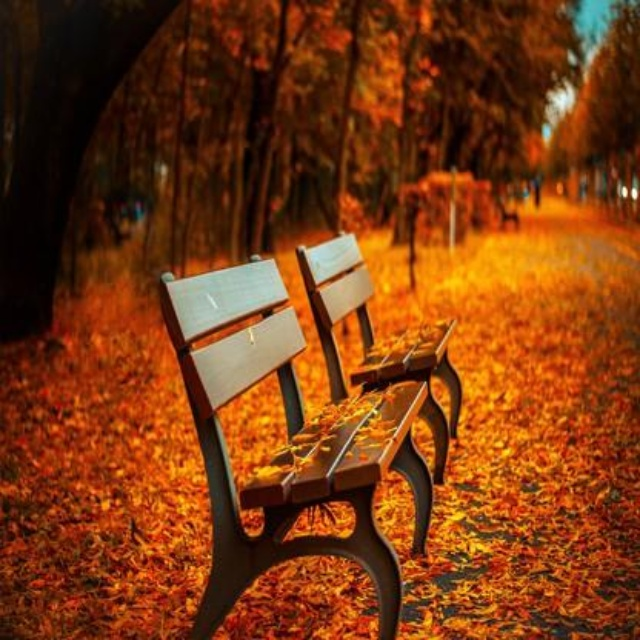obstacle: (142, 229, 420, 631)
